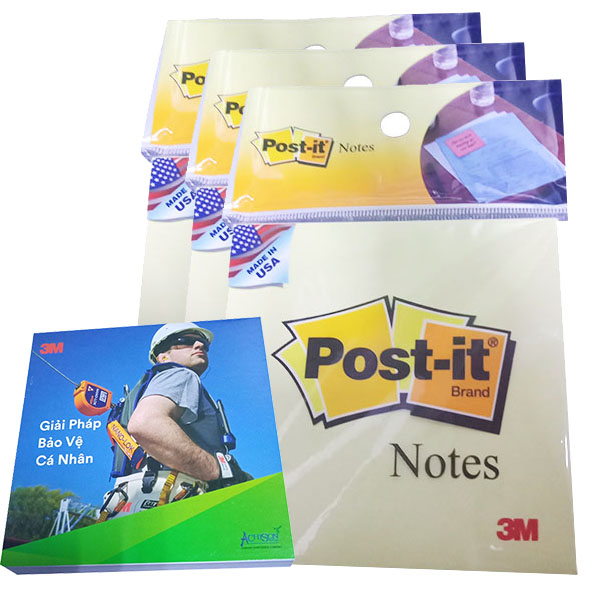3M: (490, 508, 545, 553), (35, 338, 70, 361)
